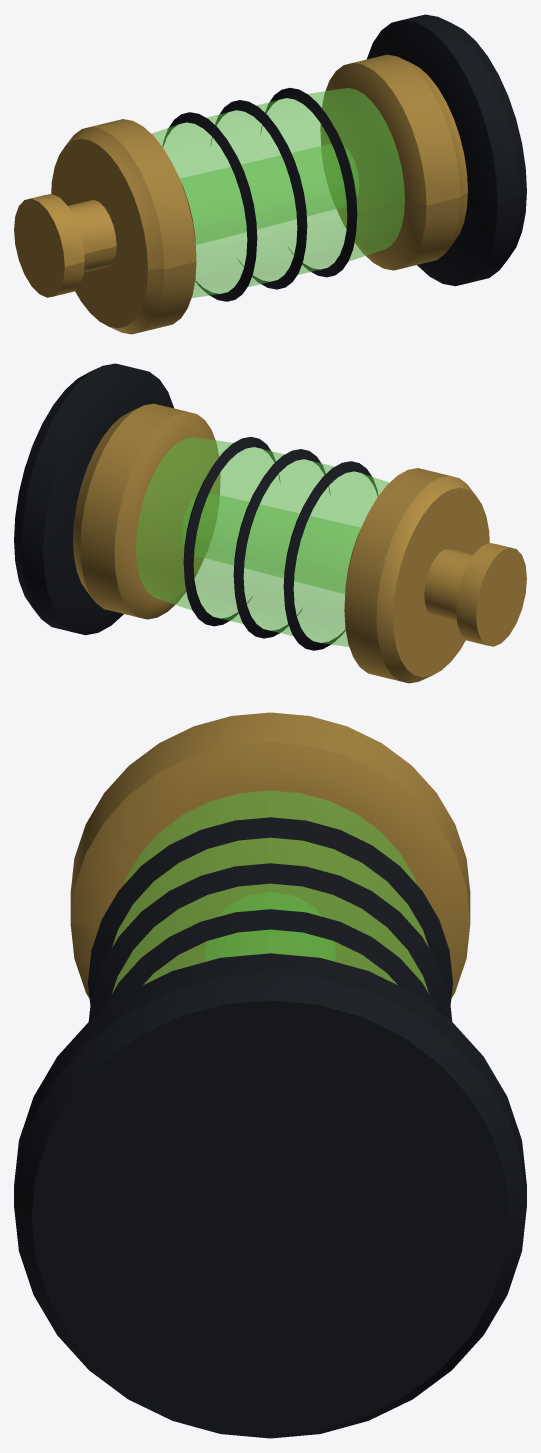
Rendered from meleemod_infusion_toxin.glb.
The picture shows the model from 3 angles, top to bottom: view 1: azimuth 30°, elevation 25°; view 2: azimuth 150°, elevation 25°; view 3: azimuth 270°, elevation 25°; orthographic projection. The views are drawn at different scales.
Parts seen in each view (by area): view 1: meleemod_infusion_toxin_glass, meleemod_infusion_toxin_ring_a, meleemod_infusion_toxin_ring_b, meleemod_infusion_toxin_saddle, meleemod_infusion_toxin_core, meleemod_infusion_toxin_valve, meleemod_infusion_toxin_rib2, meleemod_infusion_toxin_rib1, meleemod_infusion_toxin_rib0; view 2: meleemod_infusion_toxin_glass, meleemod_infusion_toxin_ring_a, meleemod_infusion_toxin_ring_b, meleemod_infusion_toxin_saddle, meleemod_infusion_toxin_core, meleemod_infusion_toxin_valve, meleemod_infusion_toxin_rib2, meleemod_infusion_toxin_rib1, meleemod_infusion_toxin_rib0; view 3: meleemod_infusion_toxin_saddle, meleemod_infusion_toxin_ring_b, meleemod_infusion_toxin_glass, meleemod_infusion_toxin_rib2, meleemod_infusion_toxin_rib1, meleemod_infusion_toxin_rib0, meleemod_infusion_toxin_core.
Boxes of the visible parts, <box> form: meleemod_infusion_toxin_glass: <box>152,88,404,297</box>; meleemod_infusion_toxin_ring_a: <box>320,54,467,270</box>; meleemod_infusion_toxin_ring_b: <box>51,119,196,334</box>; meleemod_infusion_toxin_saddle: <box>367,14,526,286</box>; meleemod_infusion_toxin_core: <box>180,144,359,244</box>; meleemod_infusion_toxin_valve: <box>14,194,116,297</box>; meleemod_infusion_toxin_rib2: <box>162,112,257,301</box>; meleemod_infusion_toxin_rib1: <box>210,100,307,289</box>; meleemod_infusion_toxin_rib0: <box>260,88,357,277</box>; meleemod_infusion_toxin_glass: <box>136,437,388,646</box>; meleemod_infusion_toxin_ring_a: <box>73,403,220,619</box>; meleemod_infusion_toxin_ring_b: <box>344,468,489,683</box>; meleemod_infusion_toxin_saddle: <box>14,363,173,635</box>; meleemod_infusion_toxin_core: <box>181,493,360,593</box>; meleemod_infusion_toxin_valve: <box>424,543,526,646</box>; meleemod_infusion_toxin_rib2: <box>283,461,378,650</box>; meleemod_infusion_toxin_rib1: <box>233,449,330,638</box>; meleemod_infusion_toxin_rib0: <box>183,437,280,626</box>; meleemod_infusion_toxin_saddle: <box>14,953,526,1438</box>; meleemod_infusion_toxin_ring_b: <box>70,712,470,998</box>; meleemod_infusion_toxin_glass: <box>112,790,428,993</box>; meleemod_infusion_toxin_rib2: <box>88,817,452,1004</box>; meleemod_infusion_toxin_rib1: <box>88,863,452,1021</box>; meleemod_infusion_toxin_rib0: <box>101,909,439,1011</box>; meleemod_infusion_toxin_core: <box>205,892,335,961</box>.
Bounding box in the file's own units: 0.0424 × 0.0236 × 0.0236.
